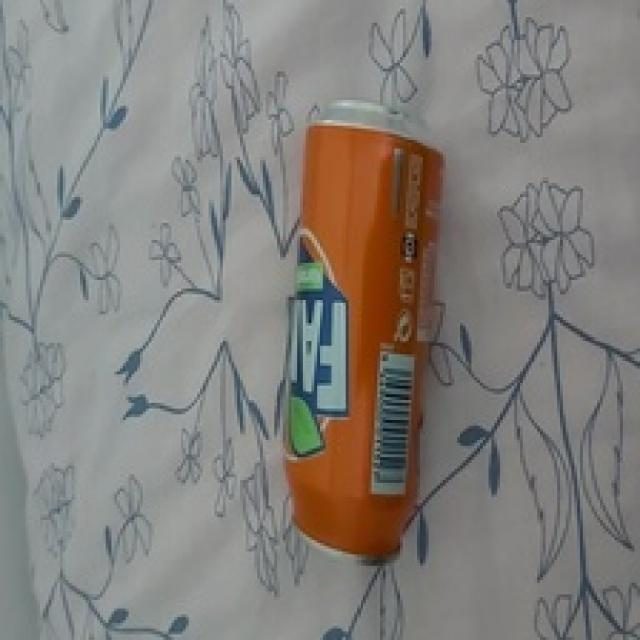recyclable: (279, 98, 446, 569)
